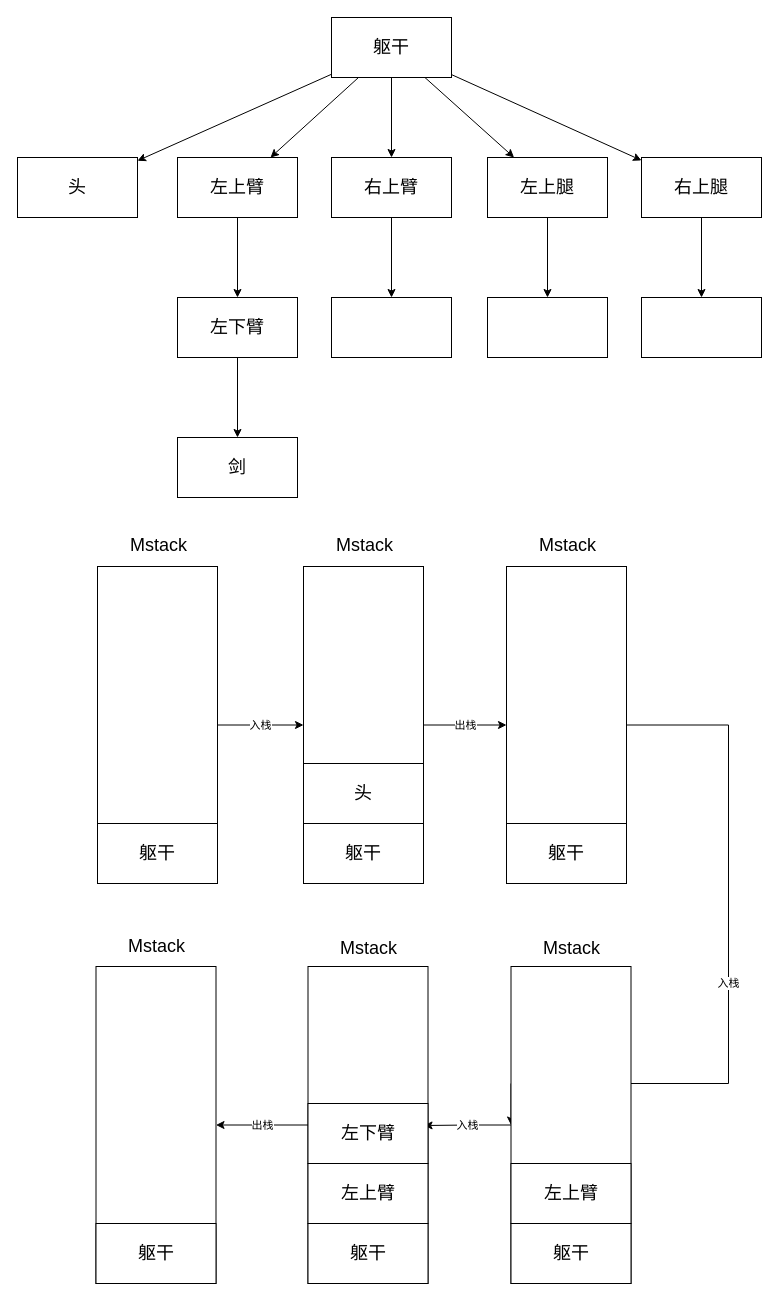
Image size: 779x1301. Some labels were removed from this diagram. Here are the shapes that lost their labels. From the top down, the centre of each, then its label:
the point at 391,327: 右下臂
the point at 547,327: 左下腿
the point at 701,327: 右下腿
